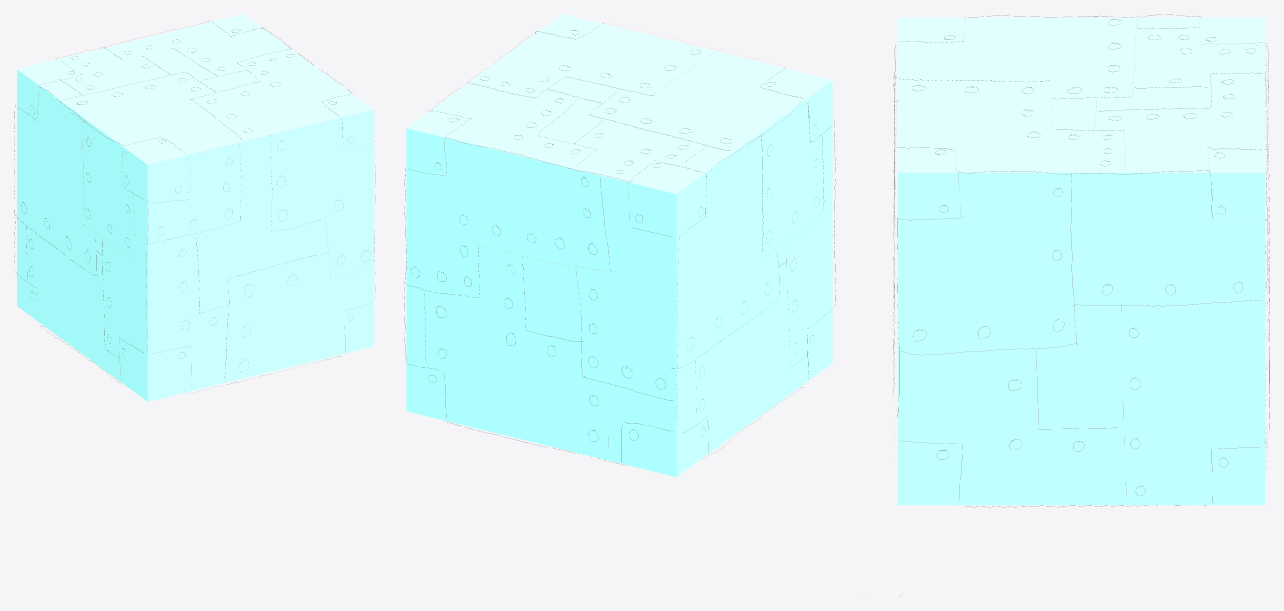
3 renders of one model, left to right at view 1: azimuth 30°, elevation 25°; view 2: azimuth 150°, elevation 25°; view 3: azimuth 270°, elevation 25°, orthographic. The views are drawn at different scales.
Visible parts, largest first — view 1: Cube, GP_Layer; view 2: Cube, GP_Layer; view 3: Cube, GP_Layer.
Boxes of the visible parts, box(x1,y1,x2,y2) form: Cube: box(17, 14, 373, 401); GP_Layer: box(14, 20, 375, 393); Cube: box(406, 14, 832, 476); GP_Layer: box(404, 22, 863, 595); Cube: box(898, 17, 1264, 505); GP_Layer: box(893, 14, 1269, 596).
Bounding box in the file's own units: 305 × 489 × 277.
